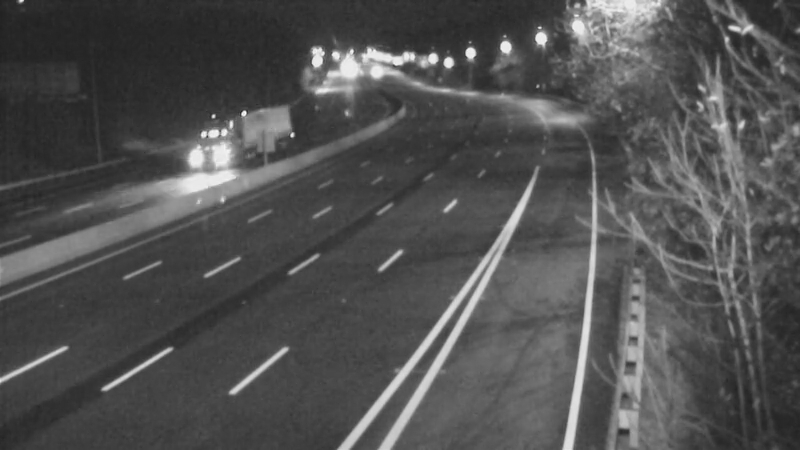vehicle: (162, 114, 242, 194), (352, 45, 402, 95)
